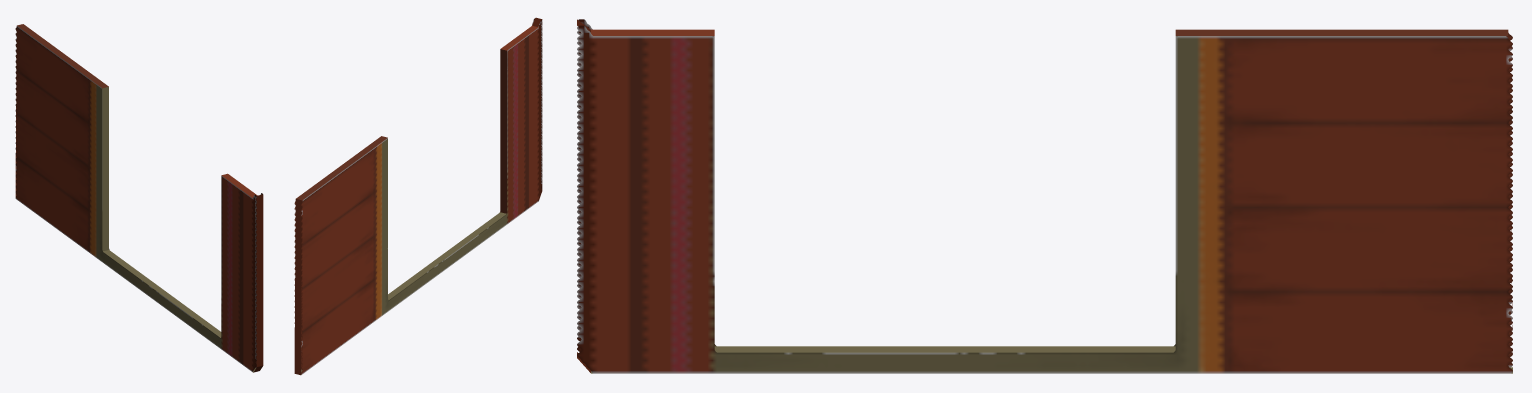
The model's file is pz_native_location_restaurant_spiffos_01_66_frame.obj.
3 views of the same model, side by side, from view 1: azimuth 30°, elevation 25°; view 2: azimuth 150°, elevation 25°; view 3: azimuth 270°, elevation 25° (orthographic). The views are drawn at different scales.
Visible parts, largest first — view 1: pz_native_location_restaurant_spiffos_01_66_frame; view 2: pz_native_location_restaurant_spiffos_01_66_frame; view 3: pz_native_location_restaurant_spiffos_01_66_frame.
Part boxes in pixels (left/top/right/bottom): pz_native_location_restaurant_spiffos_01_66_frame: left=15, top=24, right=263, bottom=372; pz_native_location_restaurant_spiffos_01_66_frame: left=294, top=17, right=542, bottom=375; pz_native_location_restaurant_spiffos_01_66_frame: left=577, top=19, right=1512, bottom=373.
Size of the model in its own units: 0.04 by 1.06 by 2.54.
1 material, 1 textured.
